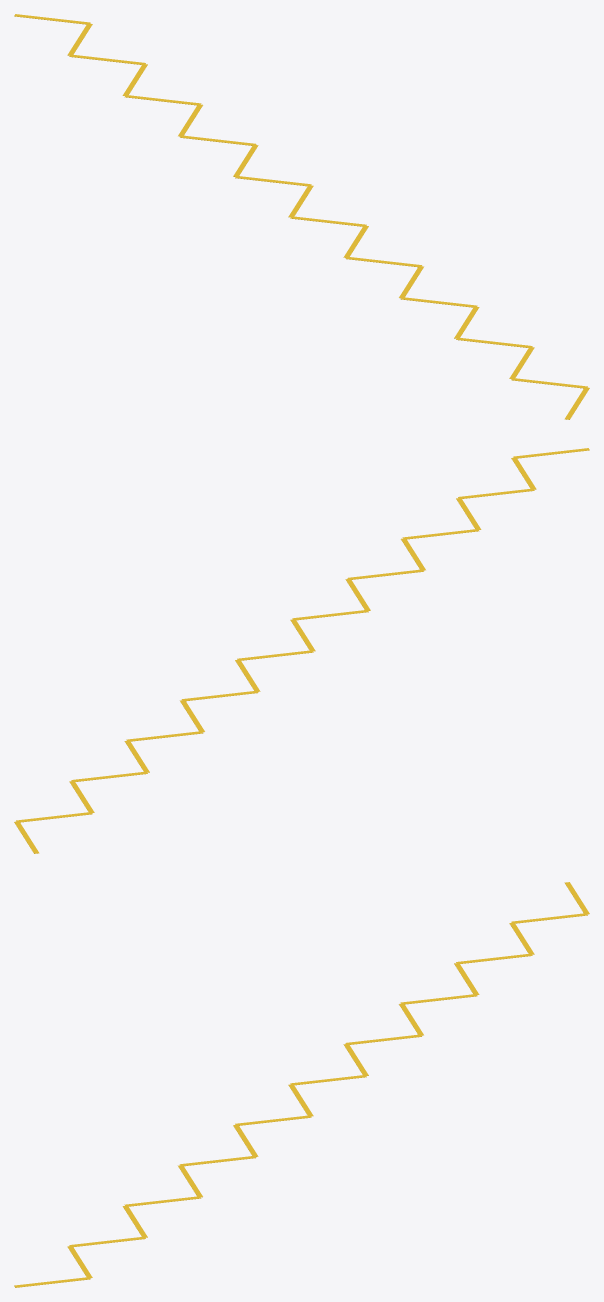
Rendered from PT_Marking_1_17_Zigzag_20m.glb.
3 views of the same model, one above another, from view 1: azimuth 30°, elevation 25°; view 2: azimuth 150°, elevation 25°; view 3: azimuth 330°, elevation 25° (orthographic).
Visible parts, largest first — view 1: Markings_Yellow; view 2: Markings_Yellow; view 3: Markings_Yellow.
Part boxes in pixels (x1=…): Markings_Yellow: x1=14, y1=14, x2=589, y2=419; Markings_Yellow: x1=14, y1=448, x2=589, y2=853; Markings_Yellow: x1=14, y1=882, x2=589, y2=1287.
Bounding box in the file's own units: 1.07 × 0.003 × 20.07.
